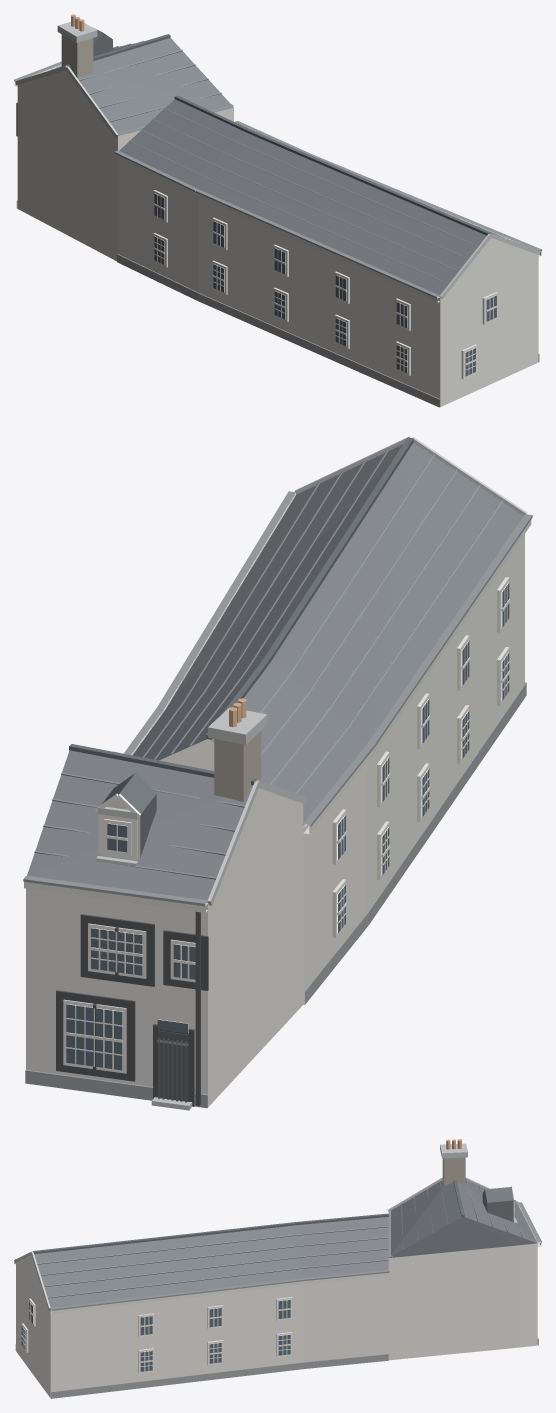
3 views of the same model, one above another, from view 1: azimuth 30°, elevation 25°; view 2: azimuth 150°, elevation 25°; view 3: azimuth 270°, elevation 25° (orthographic). The views are drawn at different scales.
Parts seen in each view (by area): view 1: harl, slate, frame, slate_lt, lead, plinth, slate_dk, stone_band, string, chim_stone; view 2: slate, harl, frame, slate_lt, lead, black_sur, plinth, slate_dk, stone_band, string, window_glass_001, chim_stone (+3 smaller); view 3: harl, slate, slate_lt, plinth, slate_dk, frame, lead, string, stone_band, chim_stone.
Part boxes in pixels (x1,y1,x2,y2): harl: [17, 70, 538, 407]; slate: [52, 38, 486, 296]; frame: [153, 190, 497, 378]; slate_lt: [55, 41, 501, 284]; lead: [14, 61, 541, 298]; plinth: [16, 200, 539, 407]; slate_dk: [67, 28, 490, 235]; stone_band: [15, 21, 540, 299]; string: [14, 64, 541, 302]; chim_stone: [61, 34, 93, 77]; slate: [27, 443, 523, 902]; harl: [26, 534, 524, 1107]; frame: [63, 577, 510, 1073]; slate_lt: [34, 450, 503, 879]; lead: [23, 491, 532, 906]; black_sur: [56, 914, 208, 1106]; plinth: [25, 682, 526, 1108]; slate_dk: [69, 437, 413, 857]; stone_band: [96, 436, 527, 1110]; string: [24, 495, 531, 912]; window_glass_001: [66, 1004, 122, 1070]; chim_stone: [214, 731, 261, 801]; harl: [16, 1243, 537, 1398]; slate: [34, 1180, 537, 1307]; slate_lt: [37, 1179, 523, 1298]; plinth: [15, 1337, 538, 1398]; slate_dk: [33, 1180, 513, 1253]; frame: [21, 1185, 515, 1373]; lead: [15, 1202, 541, 1310]; string: [15, 1204, 541, 1313]; stone_band: [14, 1143, 518, 1310]; chim_stone: [442, 1157, 465, 1186].
Bounding box in the file's own units: 12.53 × 10.72 × 29.48.
